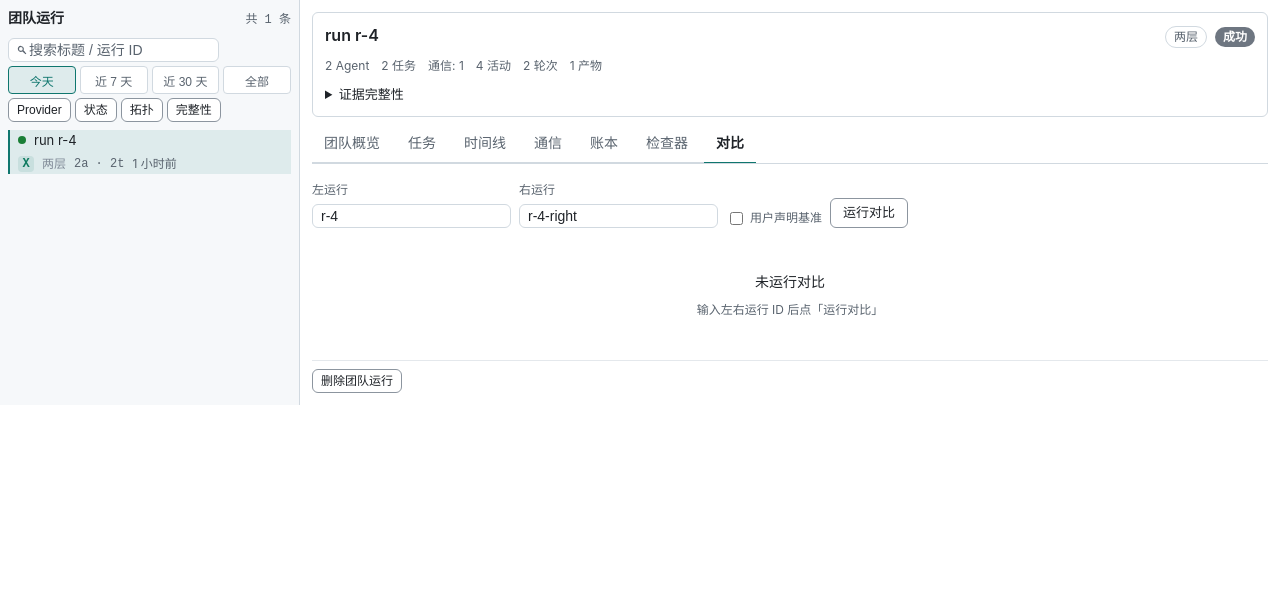
Test: TeamShell 七视图切换 › removes money from the reachable inline comparison while retaining Tokens and unchanged API evidence
Click the button "运行对比": coordinates (869, 213) [830,198,908,228]
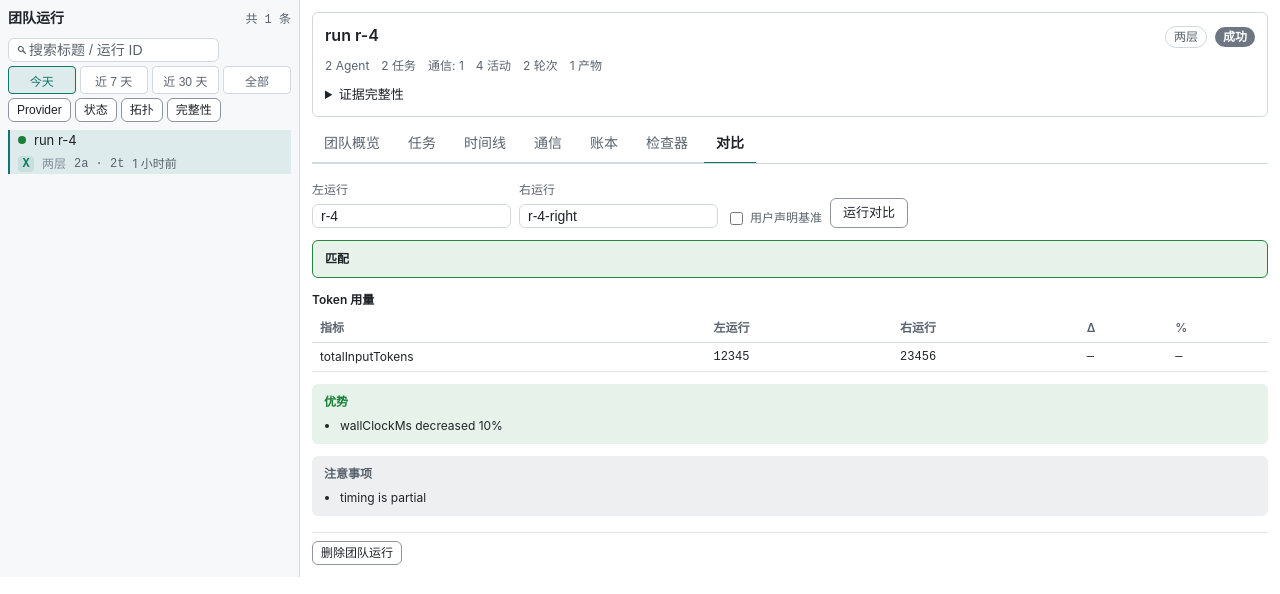
Result: the element with class "team-compare-result" is shown at [312,240,1268,516]
Result: the element with class "team-compare-result" shows "Token 用量" at [312,292,374,307]
Result: the element with class "team-compare-result" shows "totalInputTokens" at [320,349,414,364]
